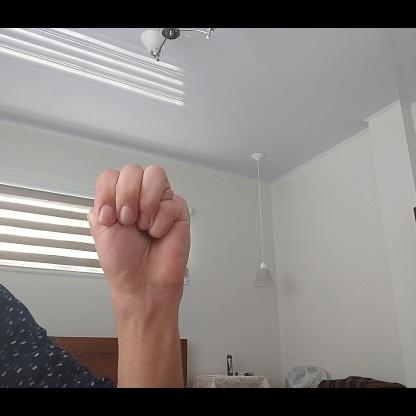M: (88, 165, 193, 301)
